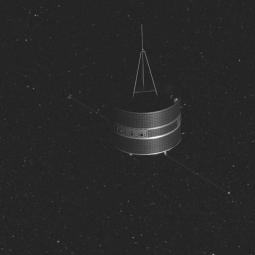double_start: (95, 48, 194, 164)
